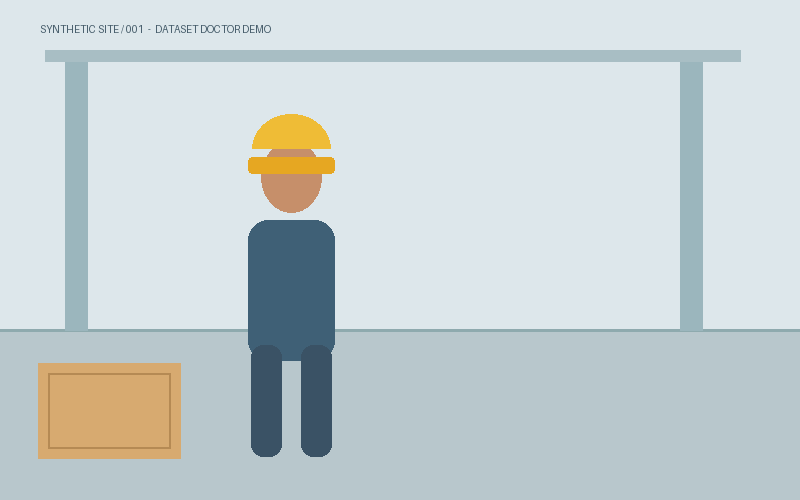Safety-Helmet: (248, 127, 334, 173)
